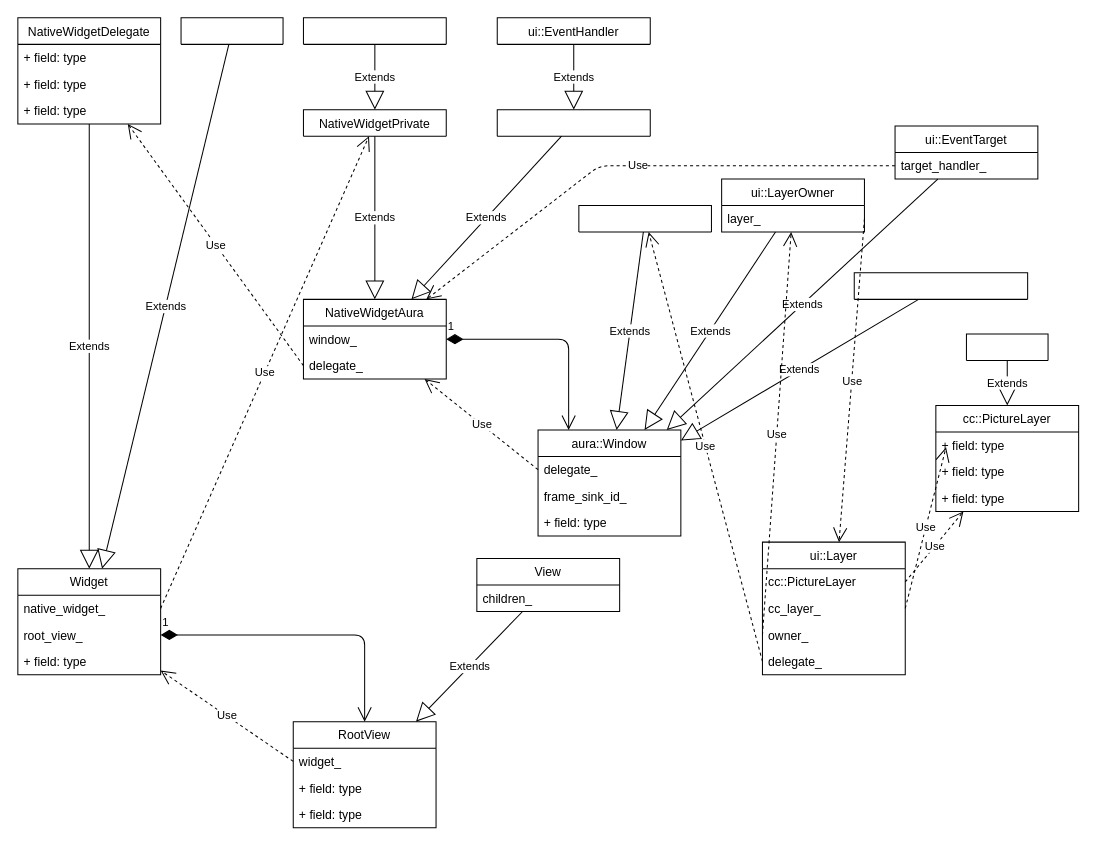
Image size: 1097x849. Some labels were removed from this diagram. The centre of each missing label's shape, as x and y in pixels:
"aura::WindowDelegate" goes at point (573, 122).
"cc::Layer" goes at point (1006, 347).
"EventSource" goes at point (231, 30).
"NativeWidget" goes at point (374, 30).
"ui::LayerDelegate" goes at point (644, 218).
"viz::HostFrameSinkClient" goes at point (940, 285).
